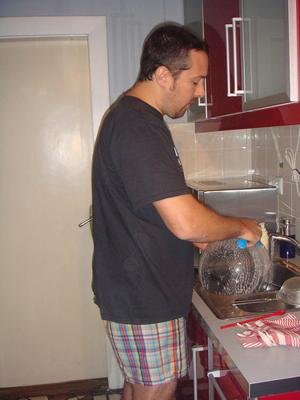person: (90, 18, 262, 398)
